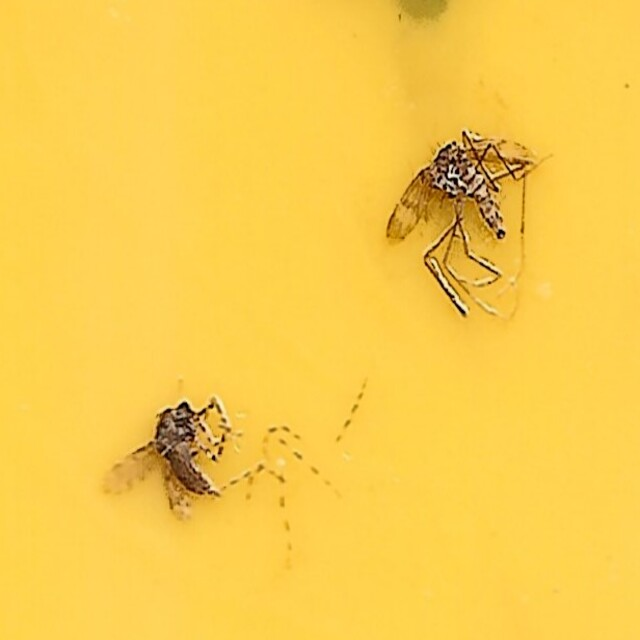Nematocera: (382, 129, 536, 317), (104, 390, 235, 511)
